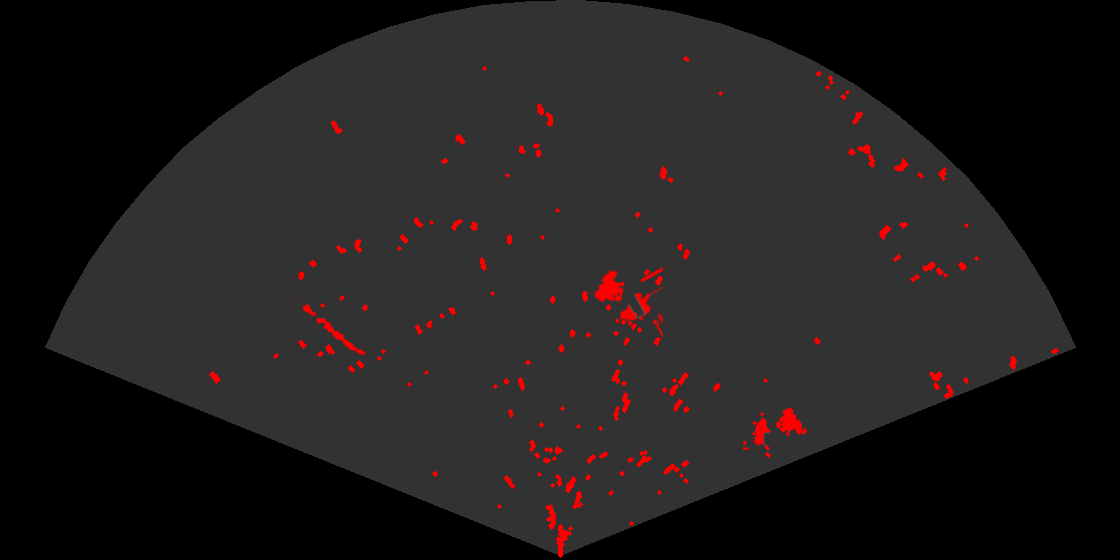cage: (593, 265, 663, 340), (743, 406, 805, 450)
chain: (292, 298, 367, 357)
